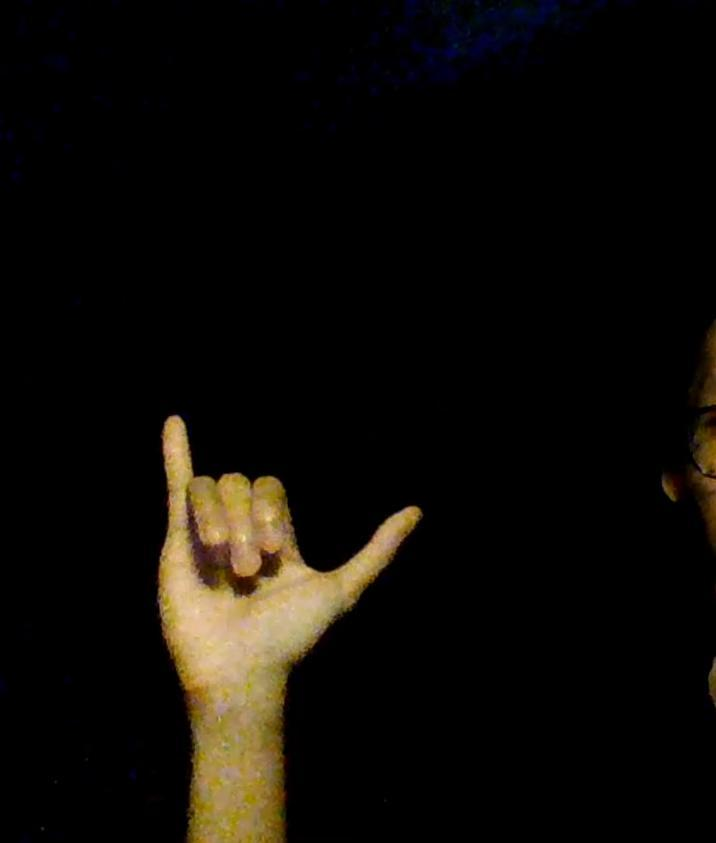y: (157, 411, 424, 696)
